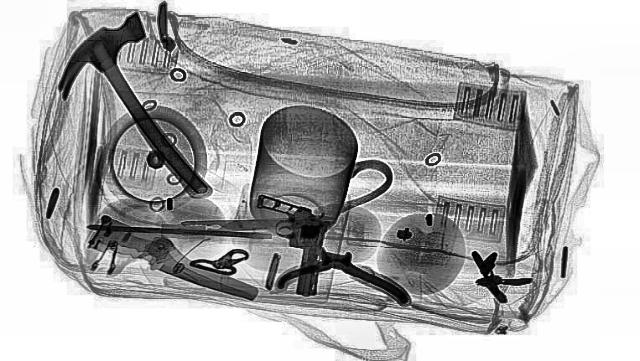Gun: (248, 194, 328, 296)
Pliers: (274, 246, 418, 304)
Scissors: (179, 214, 335, 232)
